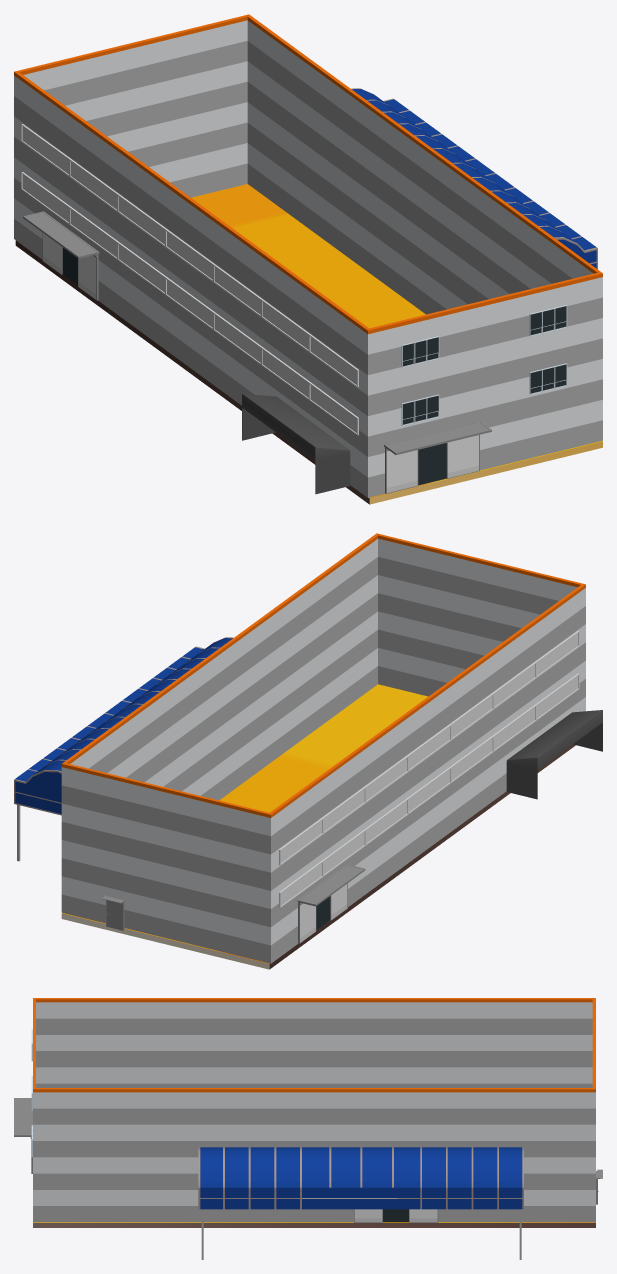
3 renders of one model, top to bottom at view 1: azimuth 30°, elevation 25°; view 2: azimuth 150°, elevation 25°; view 3: azimuth 270°, elevation 25°, orthographic. The views are drawn at different scales.
Parts seen in each view (by area): view 1: MainFacB.001, MaterialWhsB_001.001; view 2: MainFacB.001, MaterialWhsB_001.001, Door_01a_Frame; view 3: MainFacB.001, MaterialWhsB_001.001.
Part boxes in pixels (x1,y1,x2,y2): MainFacB.001: (14,14,602,497); MaterialWhsB_001.001: (15,184,602,504); MainFacB.001: (14,533,602,963); MaterialWhsB_001.001: (61,684,575,969); Door_01a_Frame: (102,895,124,930); MainFacB.001: (14,998,595,1259); MaterialWhsB_001.001: (33,1222,595,1227).
Size of the model in its own units: 30.12 by 13.56 by 52.21.
Materials: 2 (2 with a texture image).
